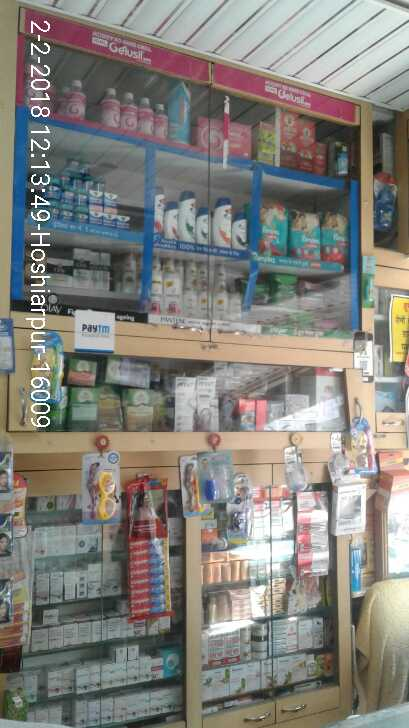vicks: (32, 153, 133, 228)
